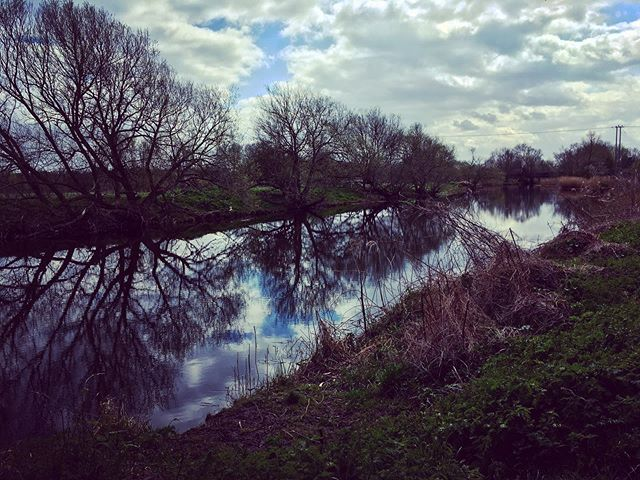river: (1, 186, 556, 430)
sky: (139, 1, 637, 140)
vegetation: (1, 84, 462, 220)
